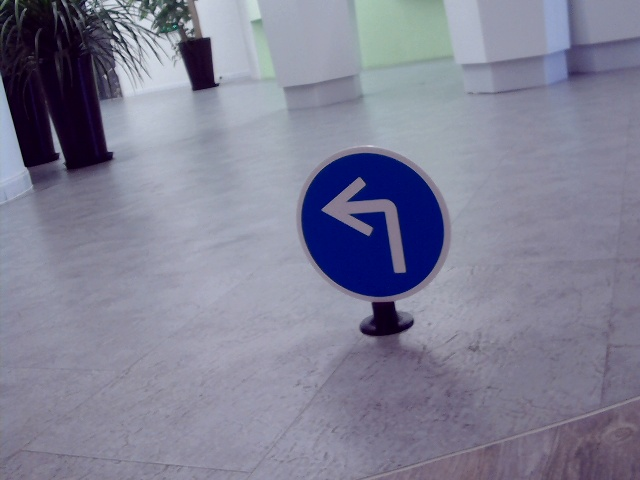turn_left: (326, 176, 413, 281)
